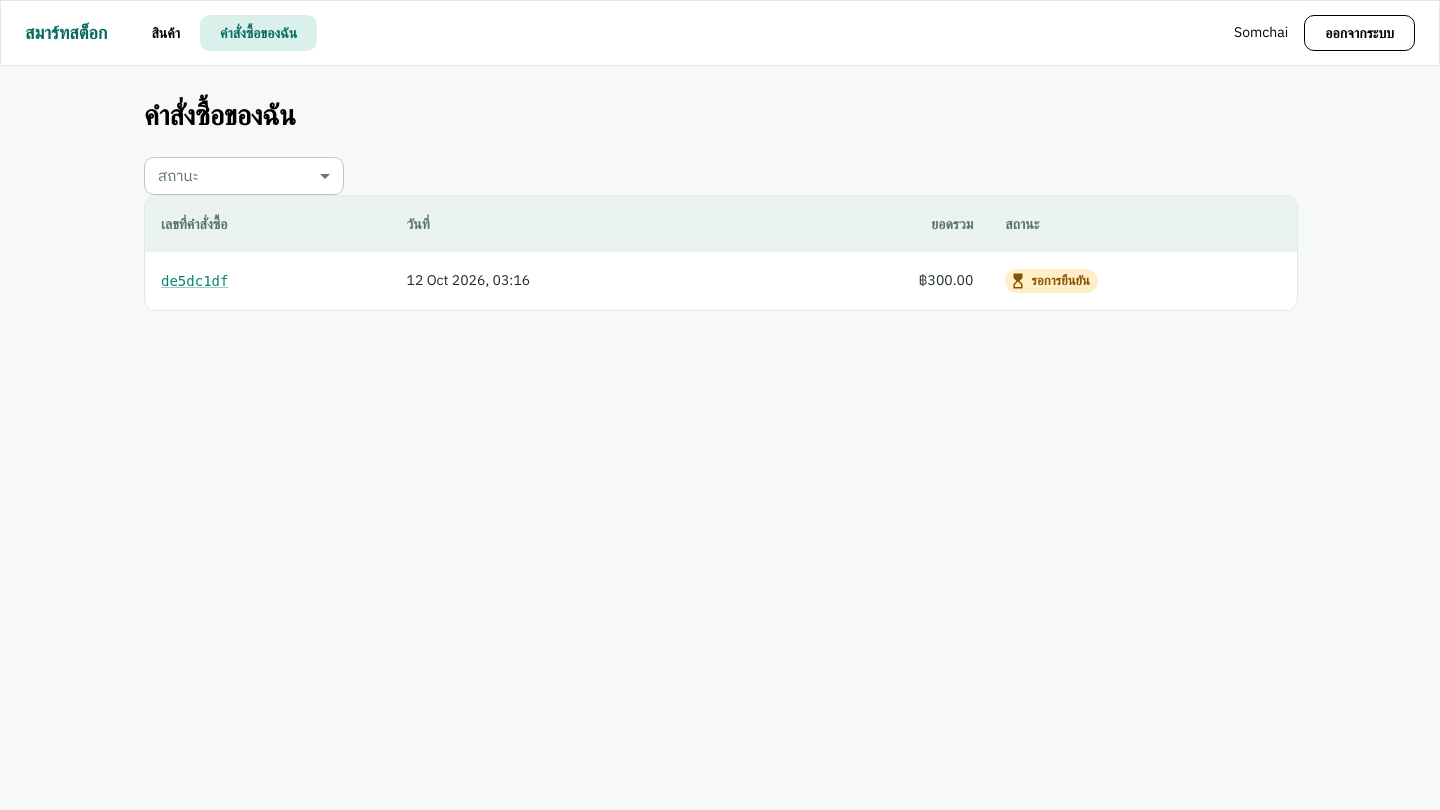
Test case: sends the user to login with the expired flag when refresh fails
Click the link "de5dc1df". click: (195, 281)
box: [161, 273, 228, 289]
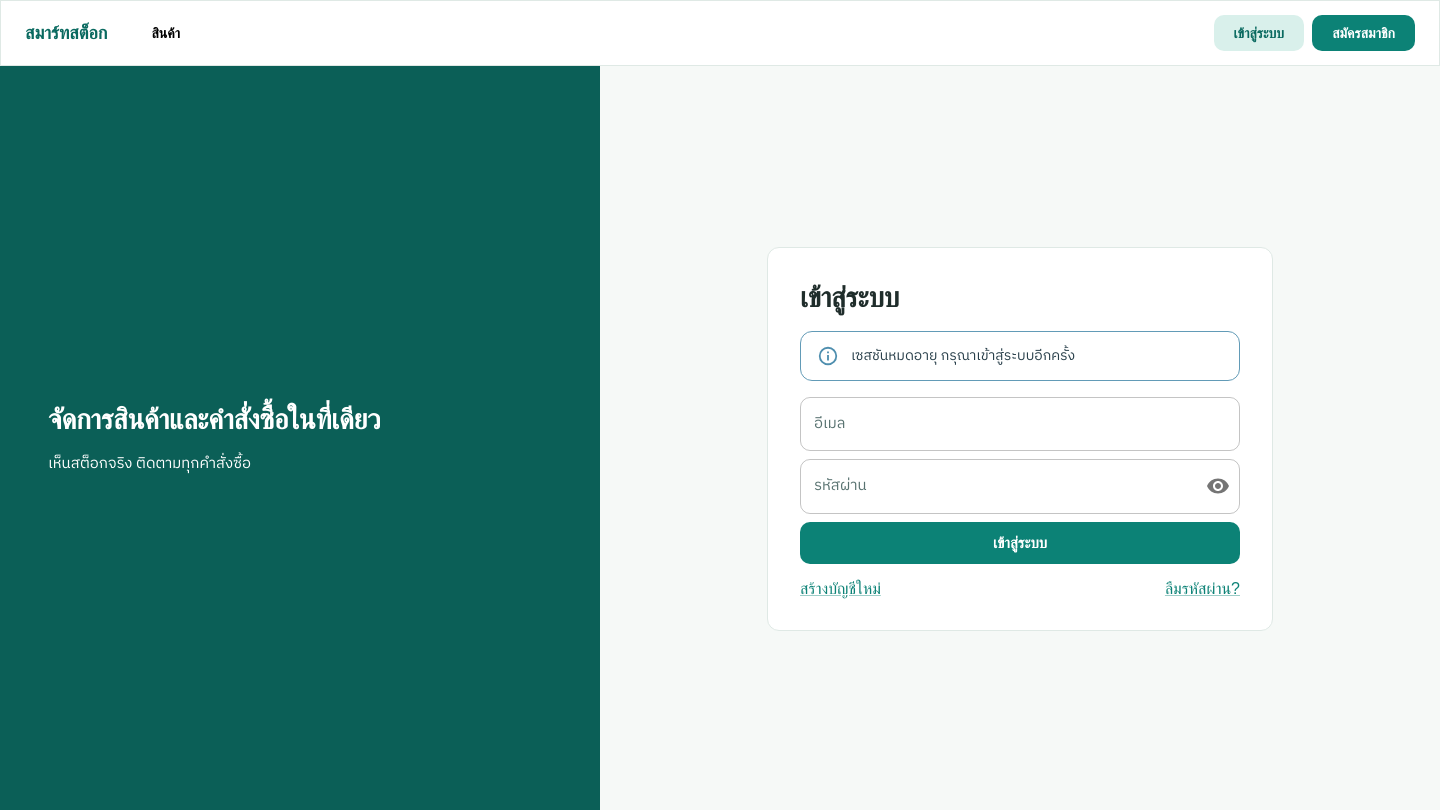
Expected: the text "เซสชันหมดอายุ กรุณาเข้าสู่ระบบอีกครั้ง" is shown, [851, 338, 1075, 374]
